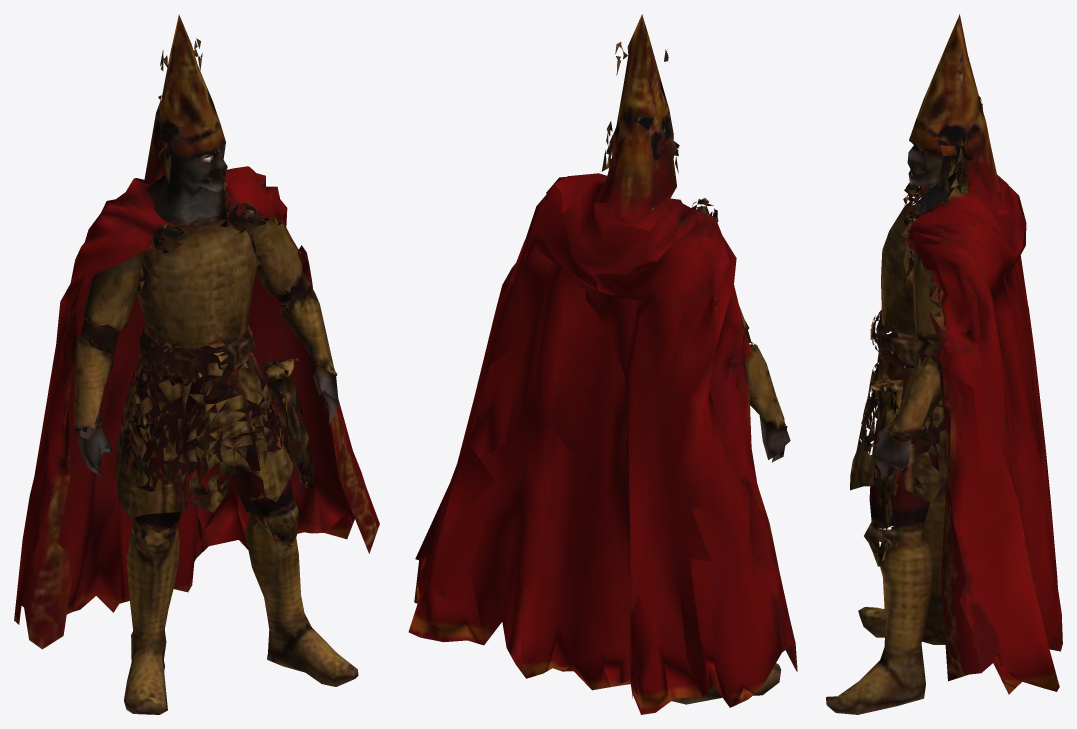
The model's file is golden-king.phone.glb.
3 views of the same model, side by side, from view 1: azimuth 30°, elevation 25°; view 2: azimuth 150°, elevation 25°; view 3: azimuth 270°, elevation 25° (orthographic). The views are drawn at different scales.
Parts seen in each view (by area): view 1: golden-king.raw; view 2: golden-king.raw; view 3: golden-king.raw.
Part boxes in pixels (left/top/right/bottom): golden-king.raw: left=14, top=14, right=379, bottom=714; golden-king.raw: left=408, top=14, right=797, bottom=714; golden-king.raw: left=826, top=14, right=1062, bottom=714.
Bounding box in the file's own units: 1.19 × 2.1 × 0.694.
Materials: 1 (1 with a texture image).
